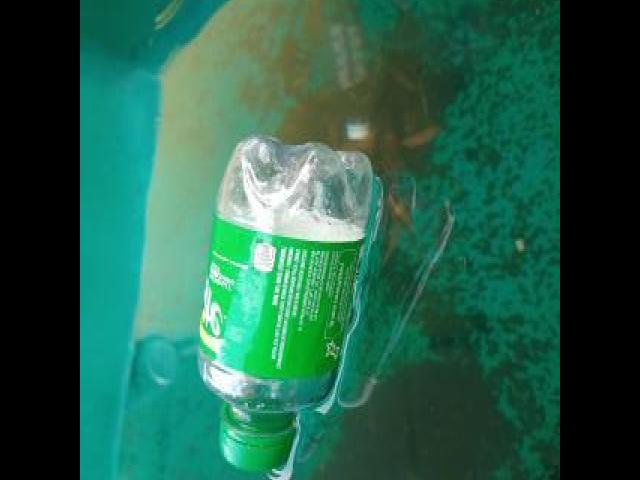Bottle: (192, 129, 379, 480)
